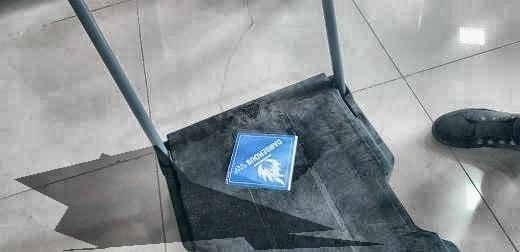dangerous-when-wet: (225, 132, 299, 191)
